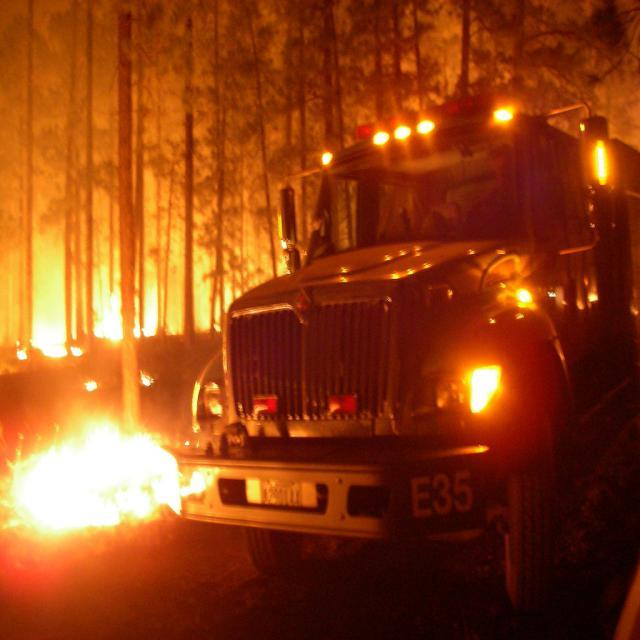Fire: (16, 439, 178, 524), (36, 316, 69, 356), (94, 305, 125, 343), (142, 296, 158, 332)
